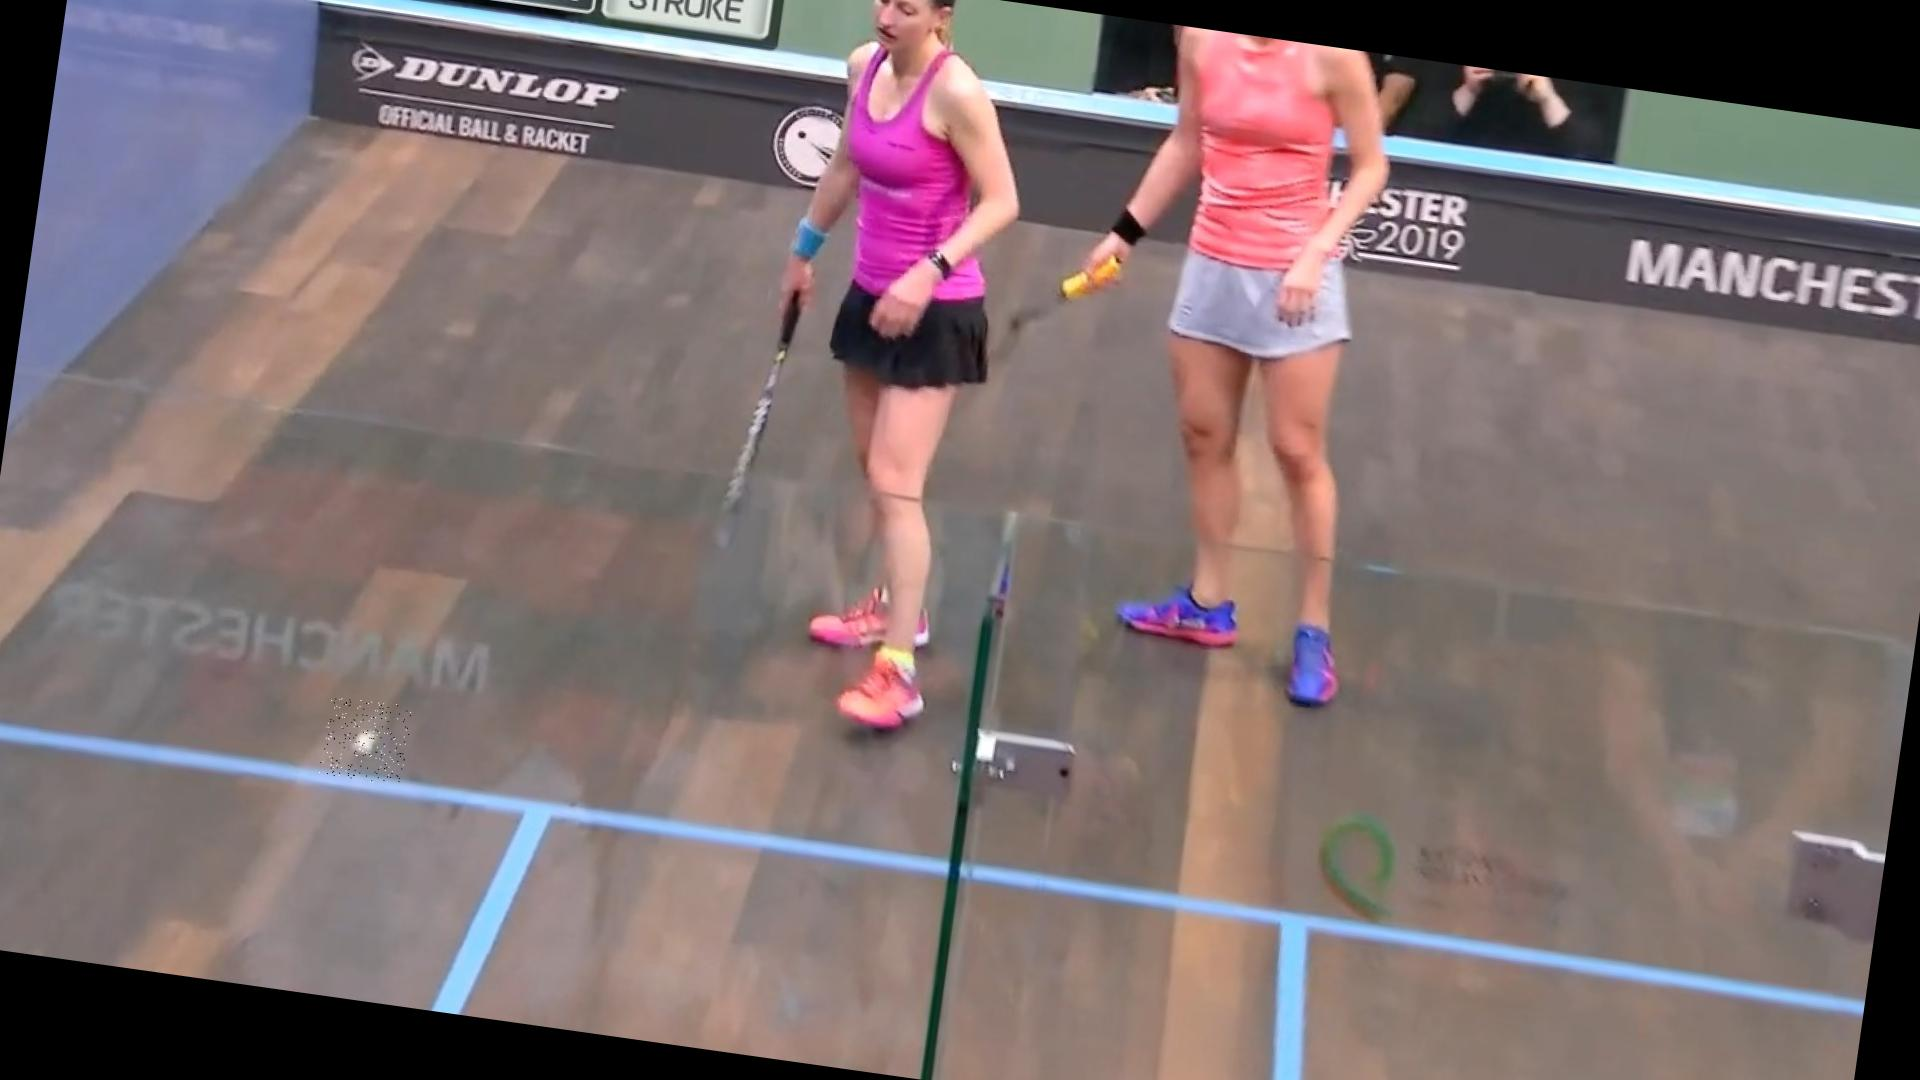Squash-Ball: (318, 695, 413, 787)
